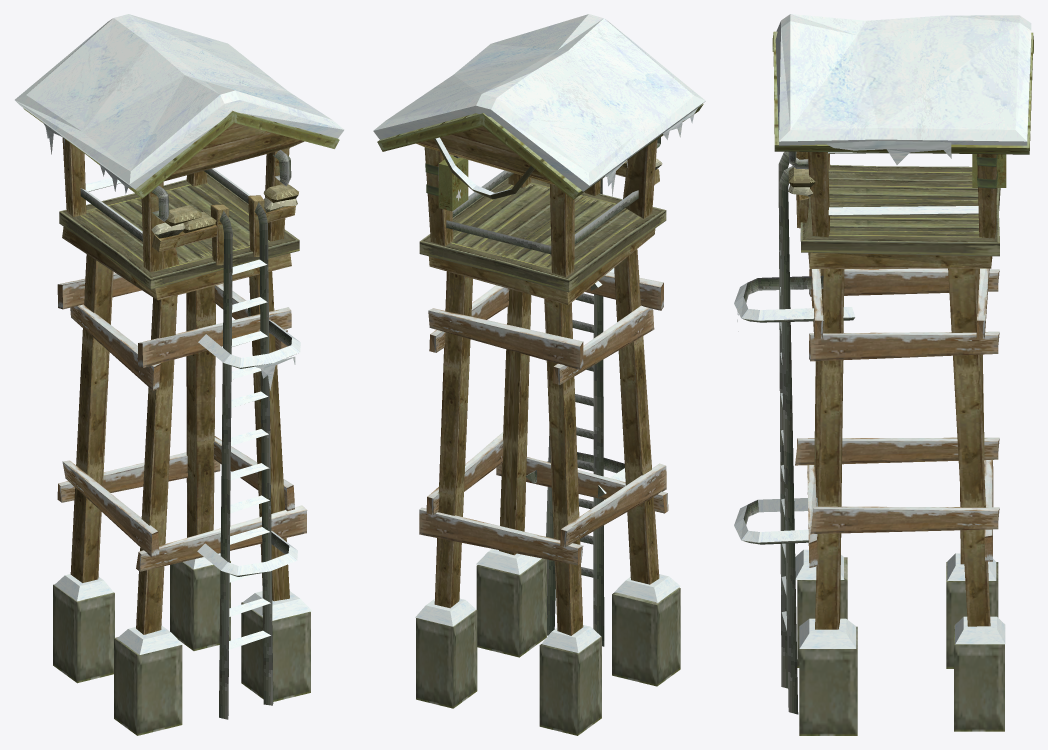
Rendered from C1SMWATCHTOWER.obj.
The picture shows the model from 3 angles, left to right: view 1: azimuth 30°, elevation 25°; view 2: azimuth 150°, elevation 25°; view 3: azimuth 270°, elevation 25°; orthographic projection. The views are drawn at different scales.
Parts seen in each view (by area): view 1: Node 0; view 2: Node 0; view 3: Node 0.
Part boxes in pixels (<box>): Node 0: <box>15,14,344,735</box>; Node 0: <box>373,14,705,735</box>; Node 0: <box>734,14,1033,735</box>.
Bounding box in the file's own units: 7.49 × 20.81 × 8.41.
